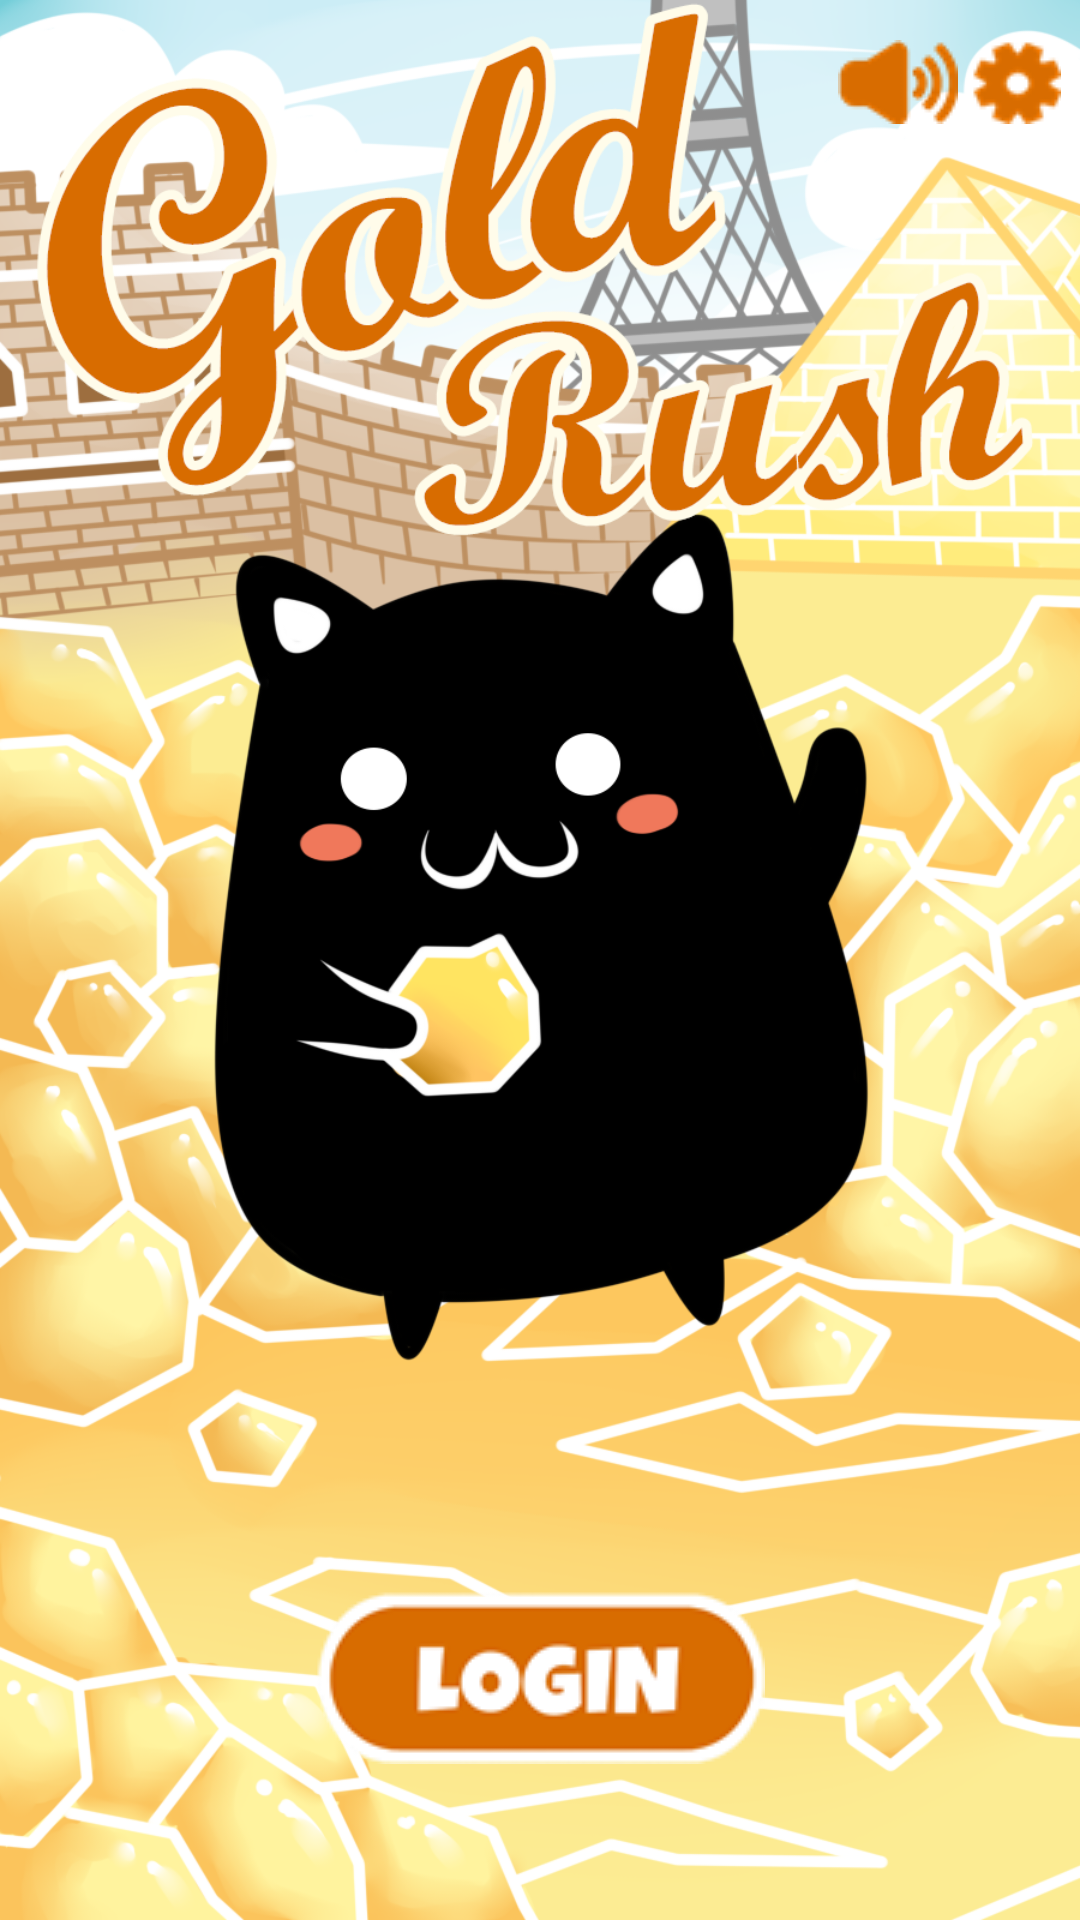

Icons on this 1080w x 1920h Android screen, each with its box as {"x1": x1, "y1": y1, "x2": x2, "y2": y2}:
setting: {"x1": 973, "y1": 42, "x2": 1061, "y2": 124}
sound: {"x1": 838, "y1": 40, "x2": 958, "y2": 124}
